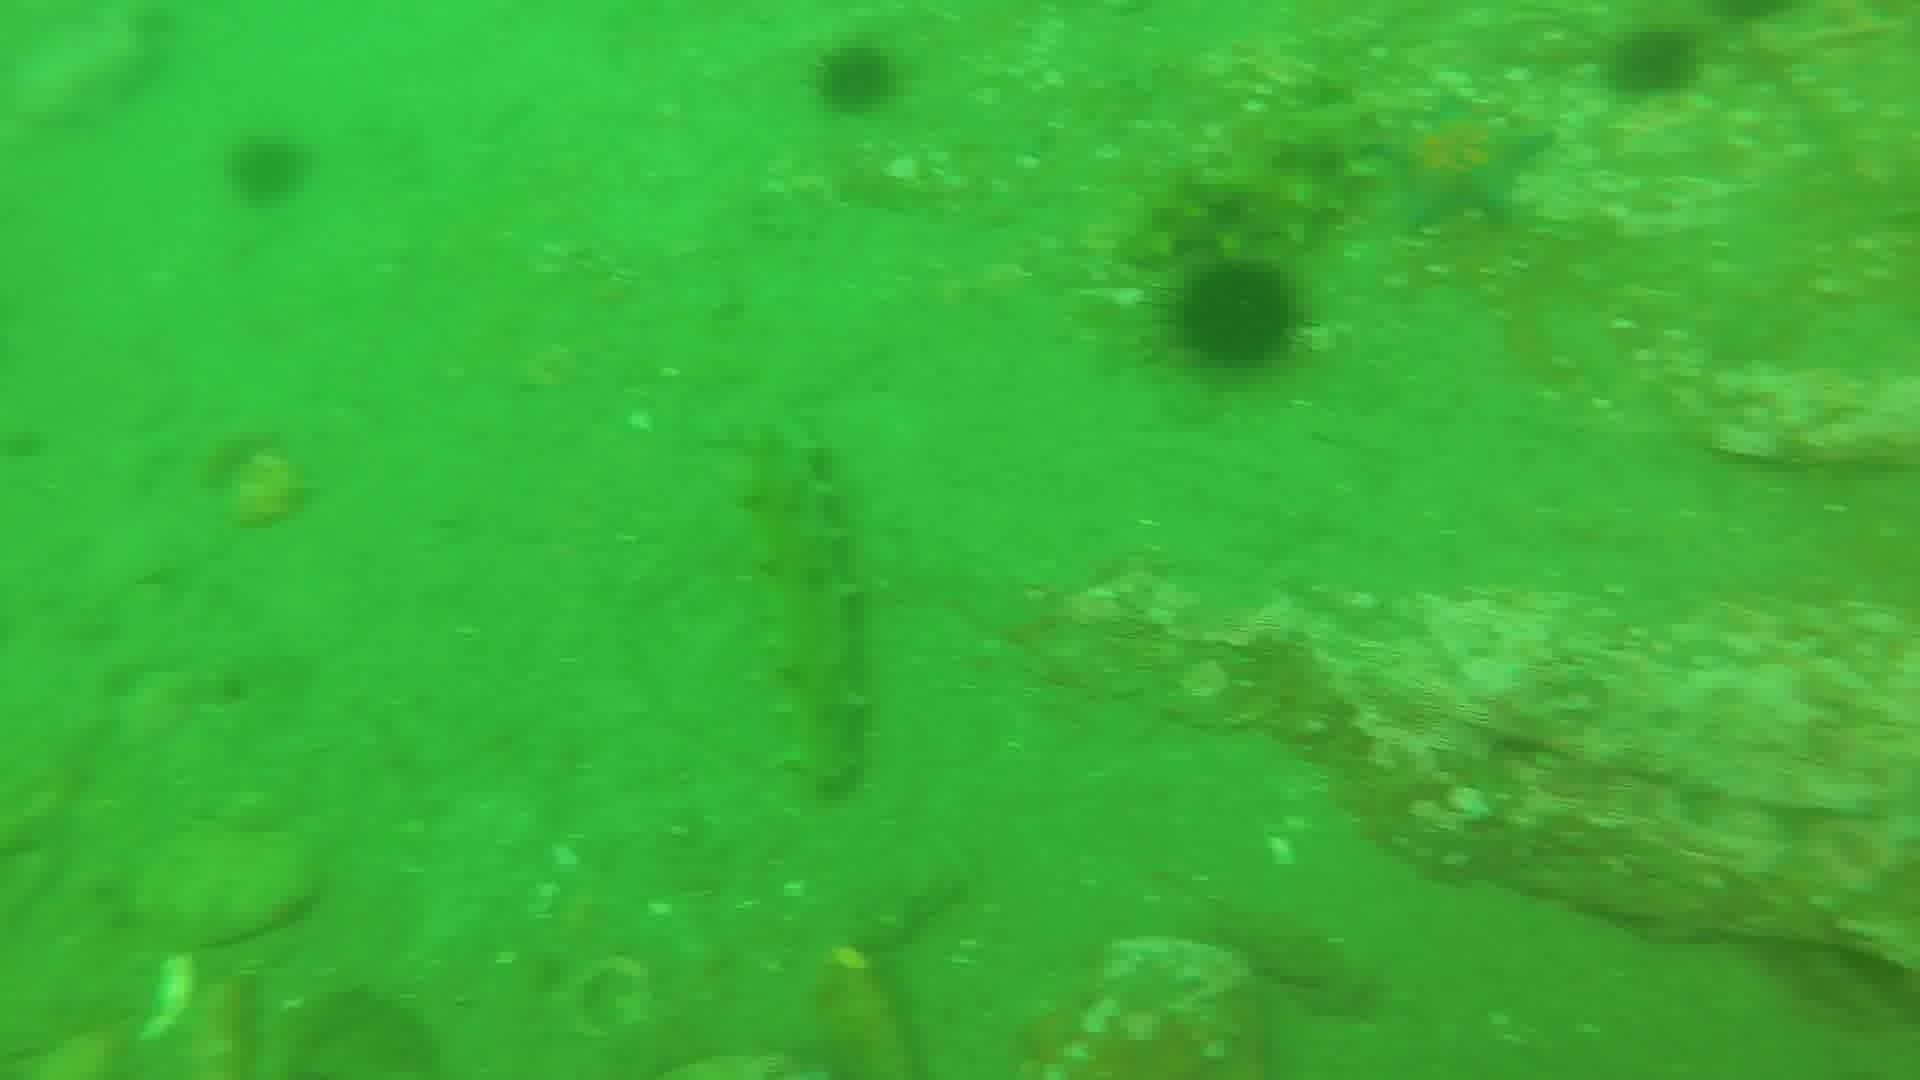echinus: (1164, 255, 1307, 378), (1600, 22, 1706, 107), (808, 38, 903, 119), (222, 131, 313, 210)
holothurian: (727, 425, 876, 796), (1120, 98, 1387, 268)
starfish: (1371, 96, 1553, 233)
